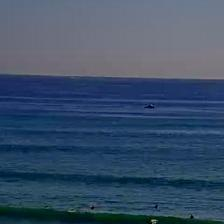surfer: (89, 205, 95, 210), (154, 204, 159, 209), (189, 215, 195, 219), (146, 221, 152, 223)
